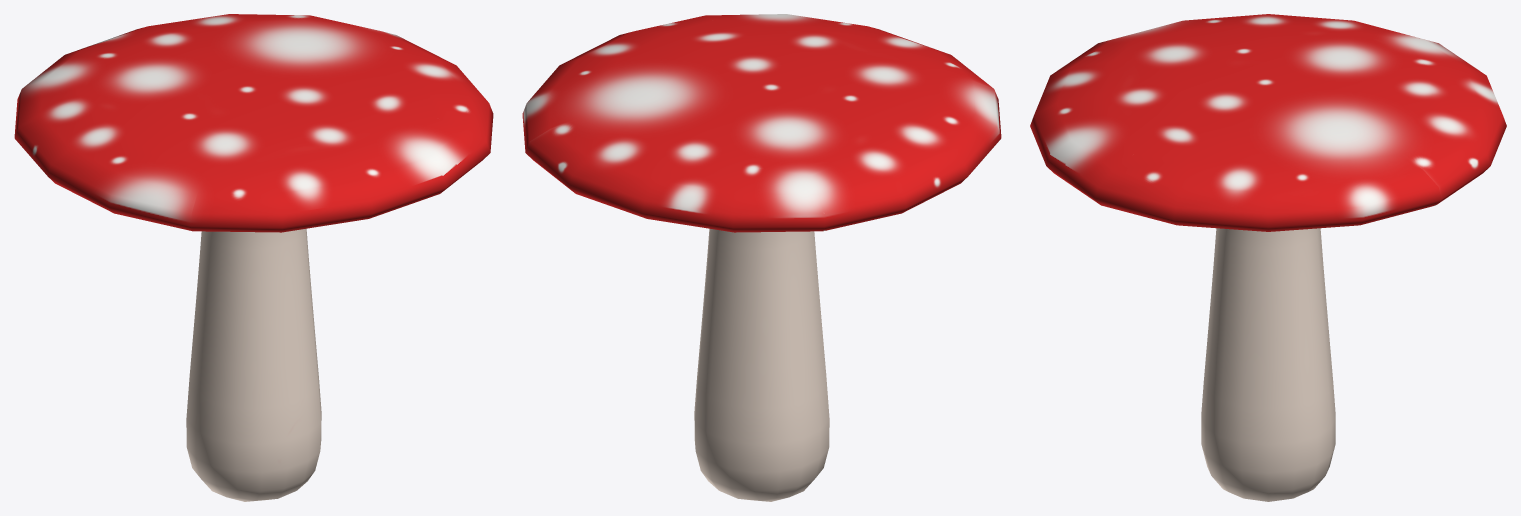
The model's file is tinyshroom.fbx.
3 views of the same model, side by side, from view 1: azimuth 30°, elevation 25°; view 2: azimuth 150°, elevation 25°; view 3: azimuth 270°, elevation 25° (orthographic).
Visible parts, largest first — view 1: Cube; view 2: Cube; view 3: Cube.
Boxes of the visible parts, x1,y1,x2,y2 form: Cube: (14,14,493,501); Cube: (522,14,1001,501); Cube: (1030,14,1506,501).
Size of the model in its own units: 582 by 549 by 582.
